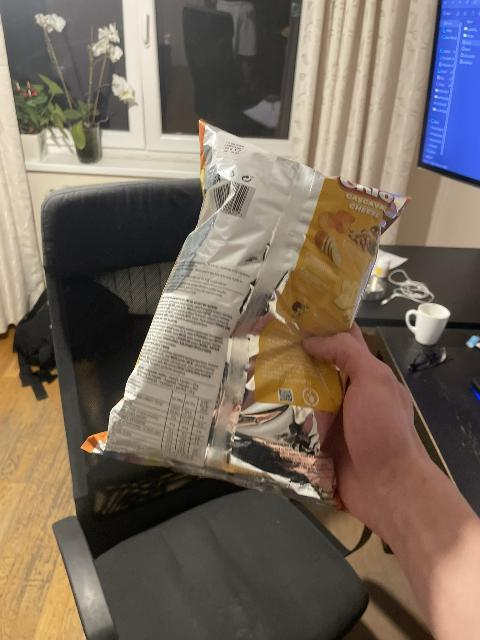Chio Cascaval 125g: (79, 118, 415, 508)
